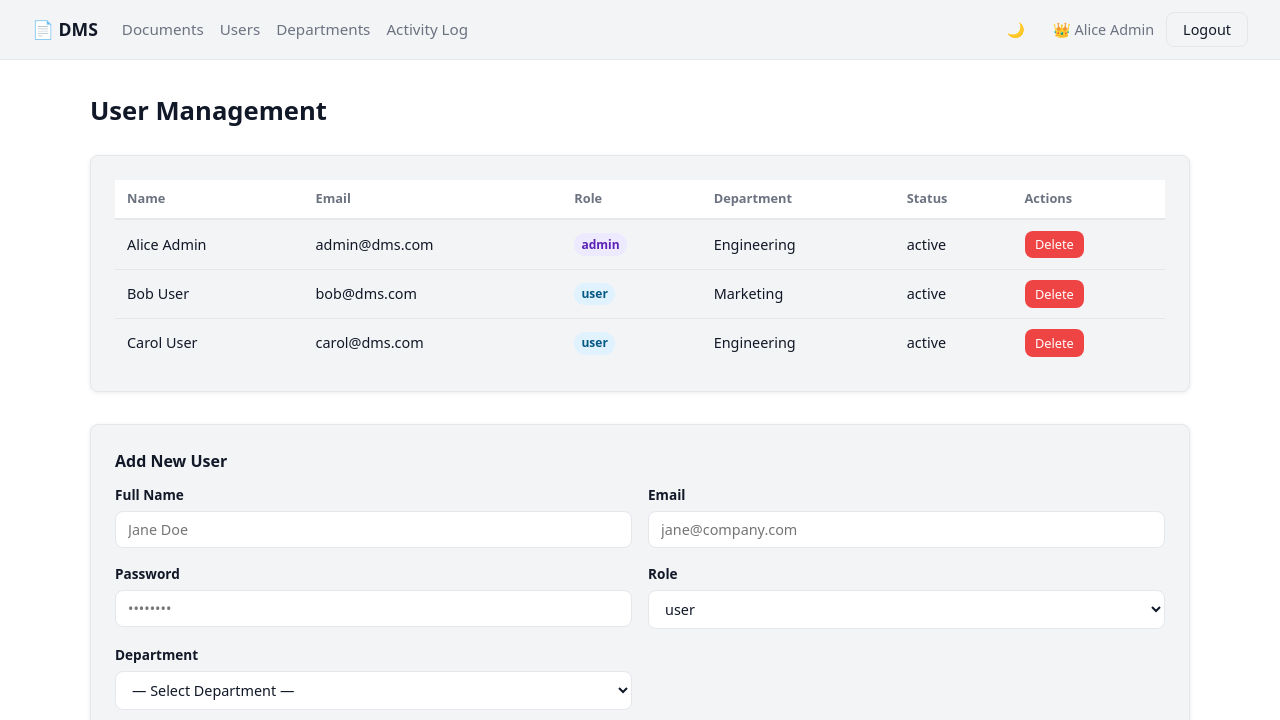
Test case: Admin Users Page › deletes a user
Click the button with test id "delete-user-btn" in the row of "Carol User": (1055,343) [1025,329,1085,357]
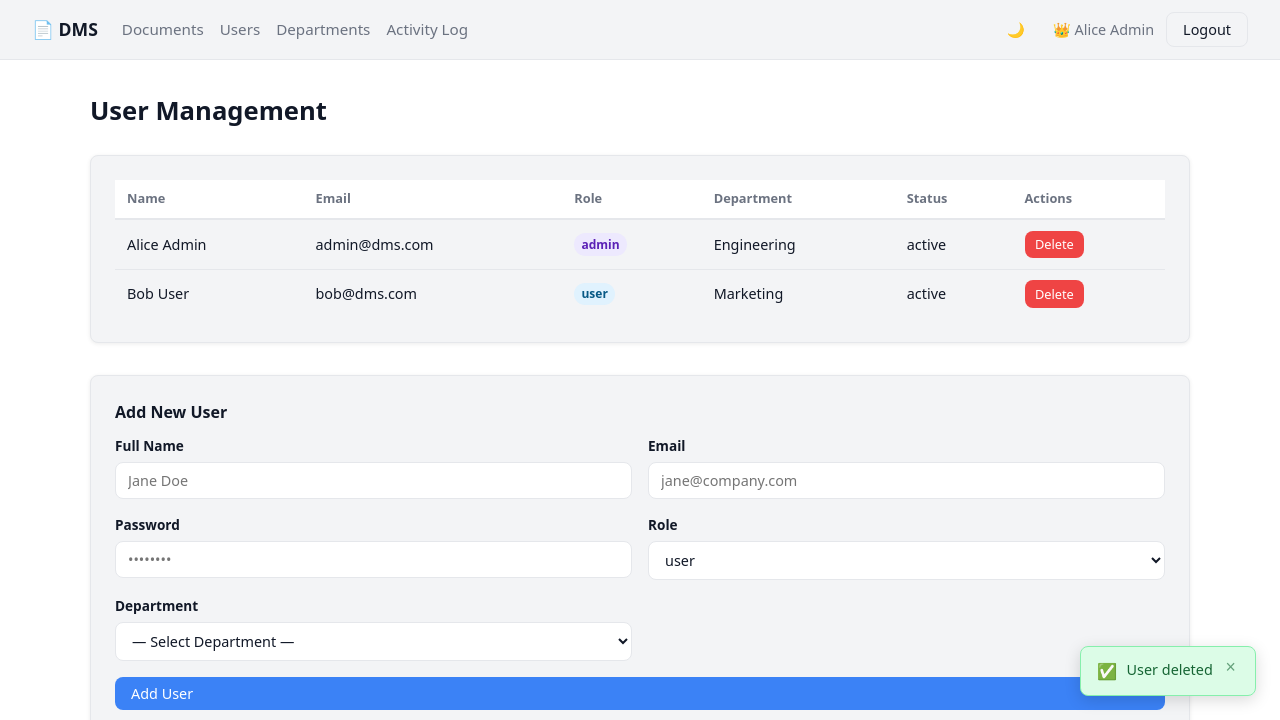
expect the text "User deleted" is shown: met, box [1127,659,1213,681]
